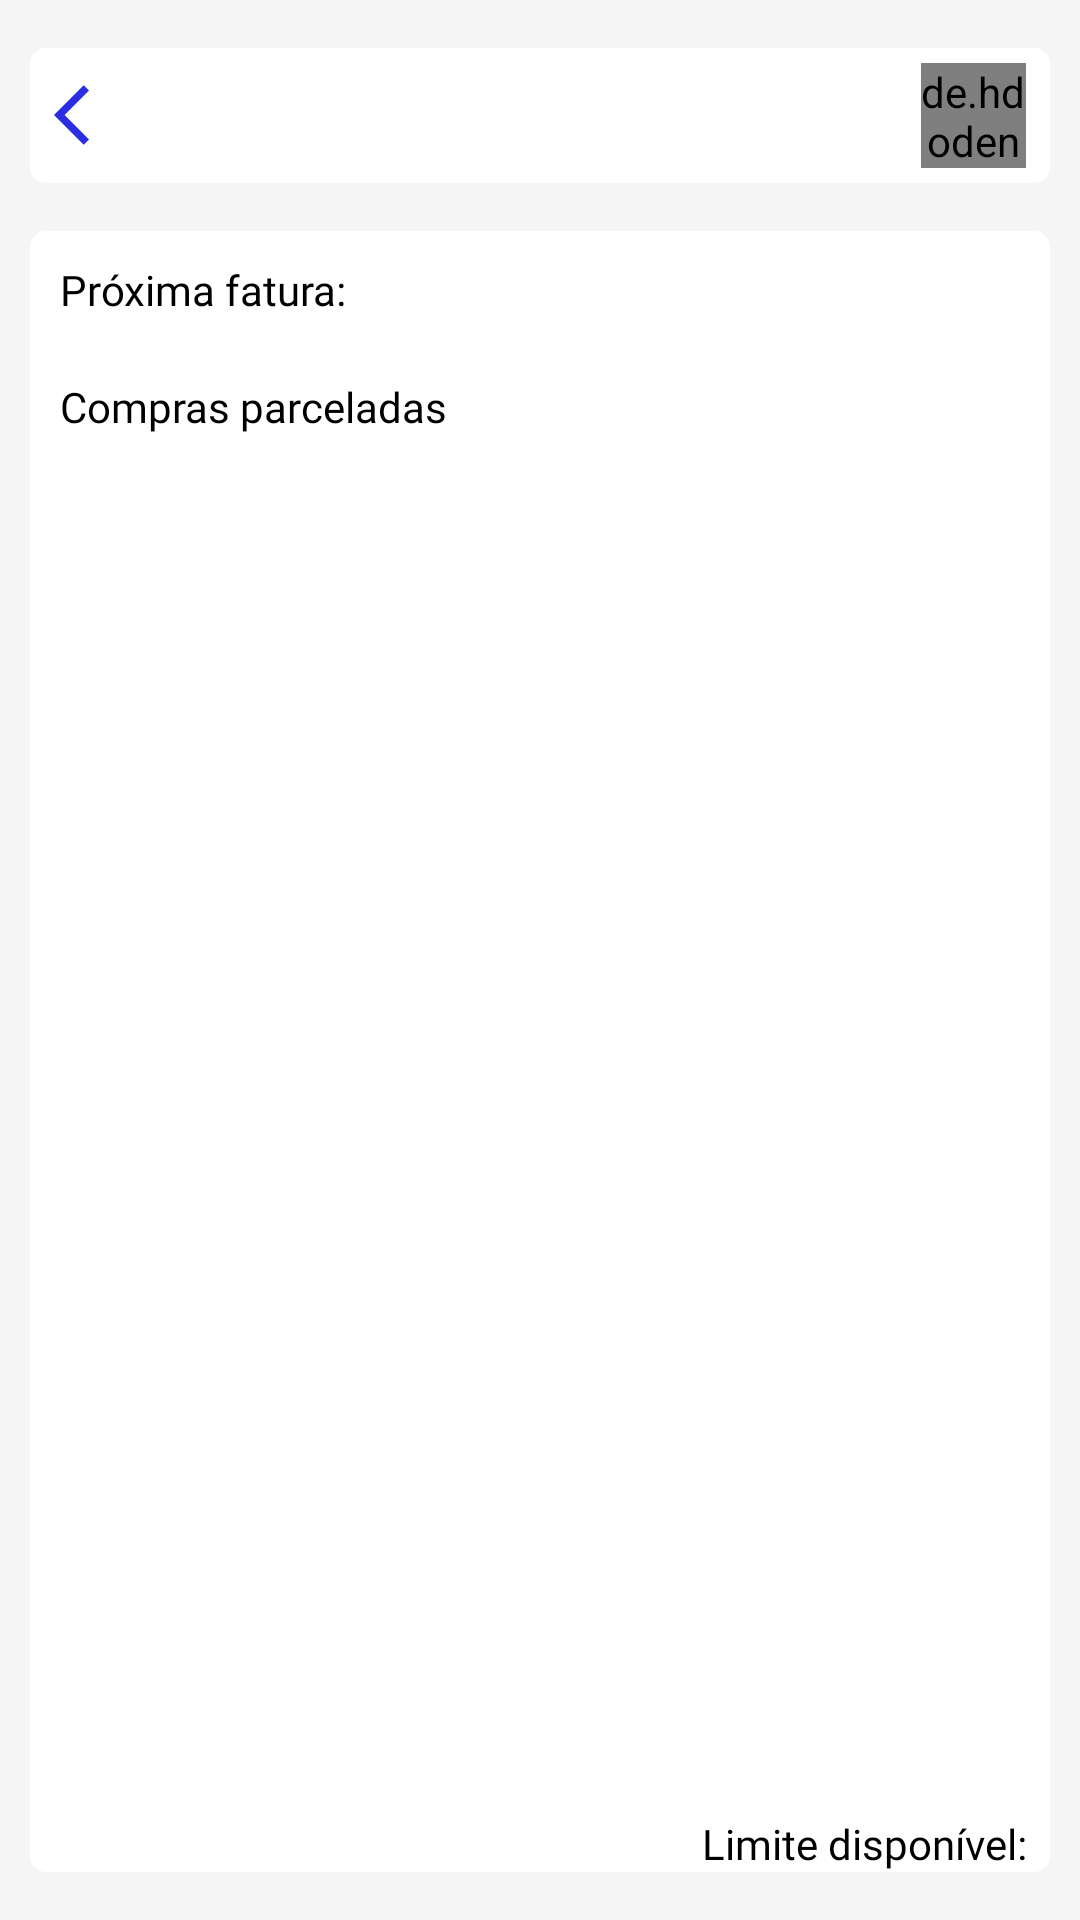

Named icons in this screenshot (1080x1920) and their centers, (x=x, y=y):
arrow back: (x=71, y=115)
